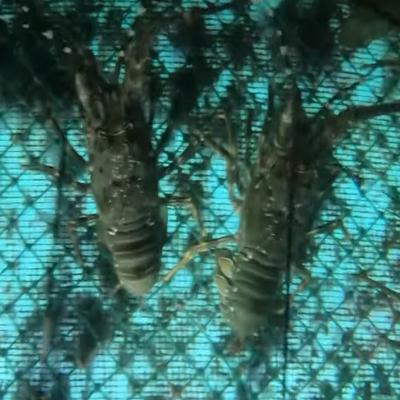lobster: (72, 62, 174, 291), (228, 110, 323, 334)
